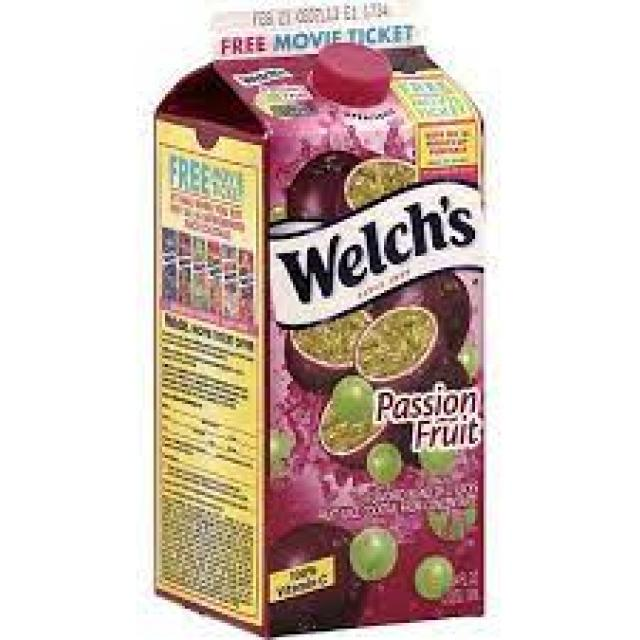non_white_jug: (119, 8, 500, 640)
